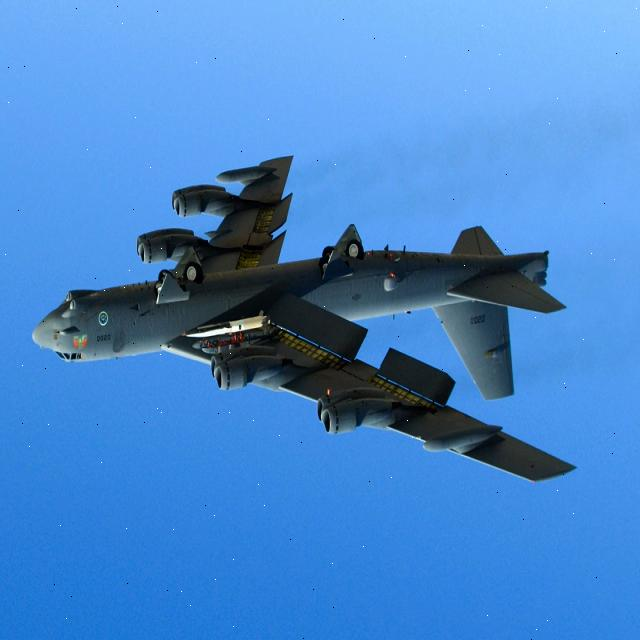B1: (27, 134, 628, 504)
